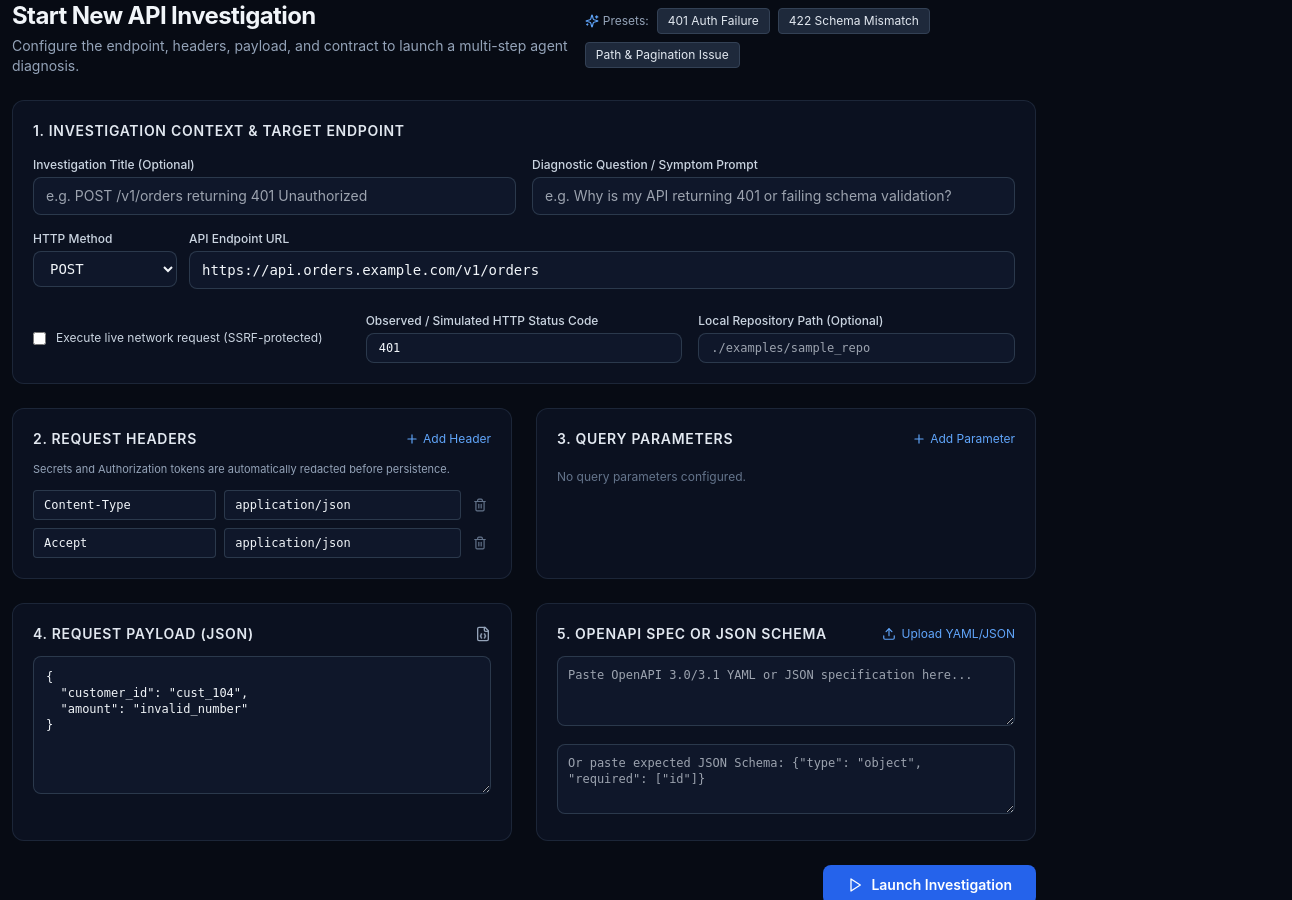
Test case: API Detective Web Dashboard Suite › validates NewInvestigationPage form and supports preset scenarios
Clear the field labelled "API Endpoint URL" at (602, 270), box x1=189 y1=251 x2=1015 y2=289
(page scrolled)
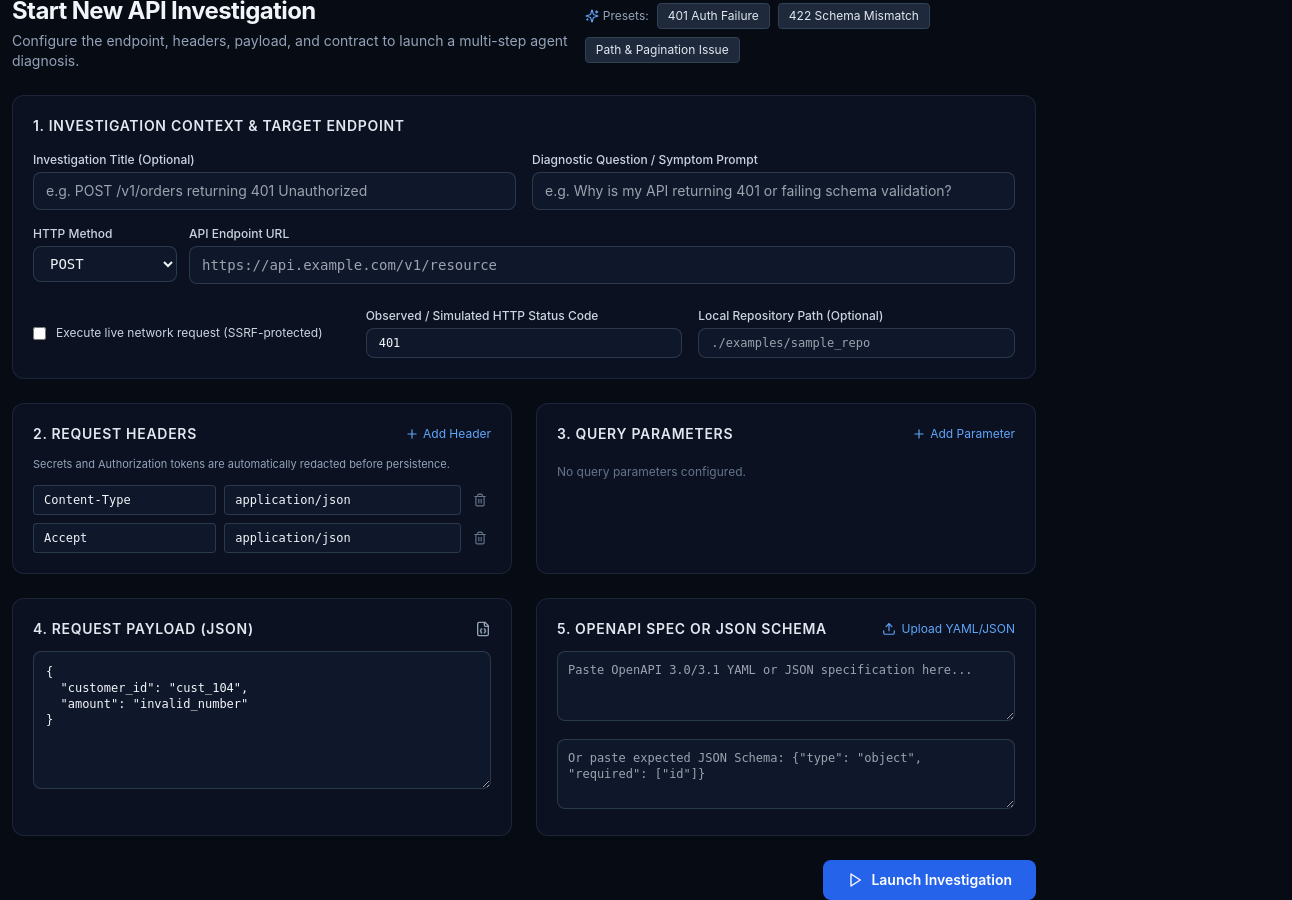
Click the button "Launch Investigation".
click(930, 880)  # box x1=823 y1=860 x2=1036 y2=899
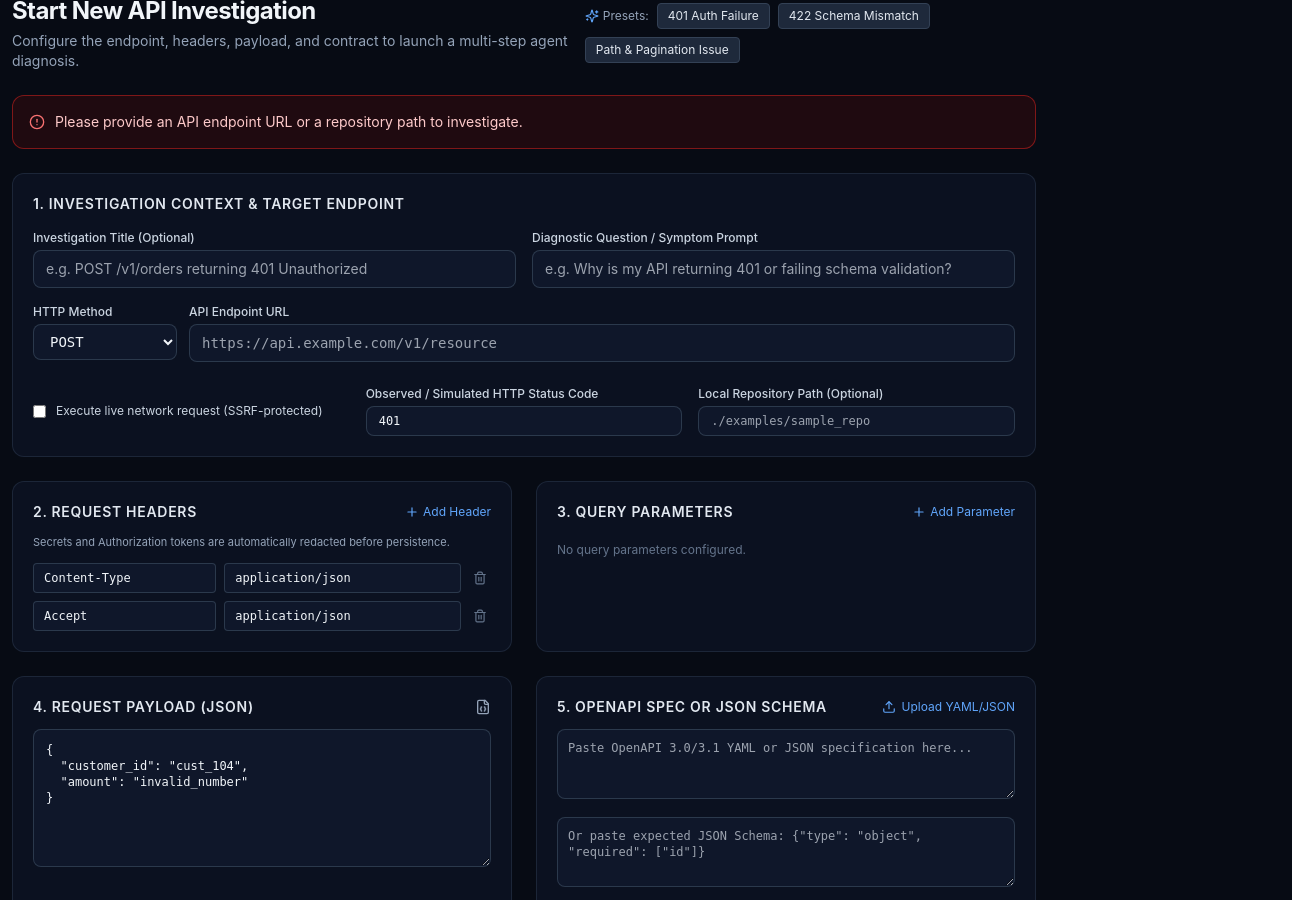
Result: the text "Please provide an API endpoint URL or a repository path to investigate." is shown at x1=55 y1=112 x2=523 y2=132
Click the button "401 Auth Failure".
click(713, 16)  # box x1=657 y1=3 x2=770 y2=29
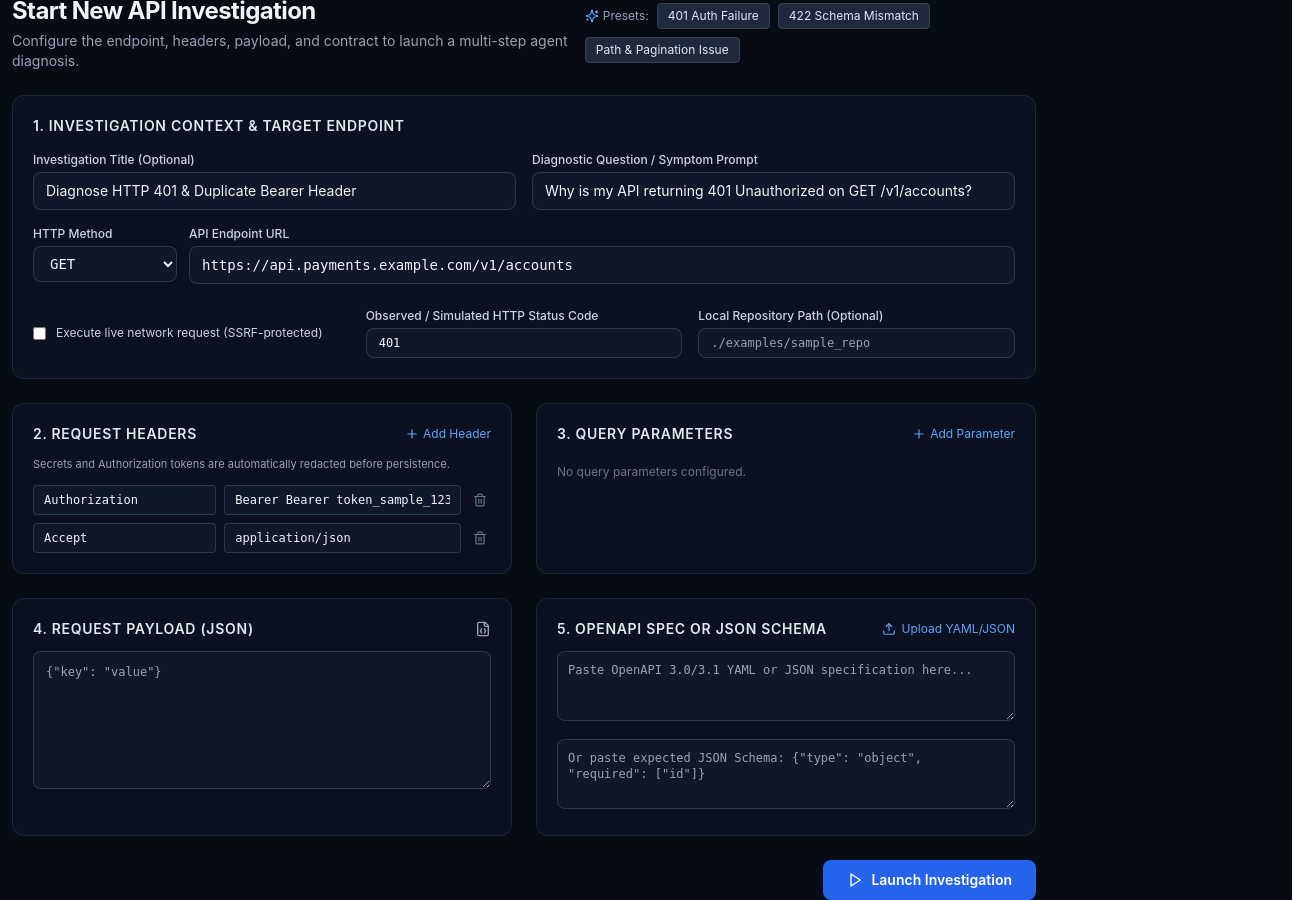
Result: the field labelled "API Endpoint URL" holds "https://api.payments.example.com/v1/accounts" at x1=189 y1=246 x2=1015 y2=284
